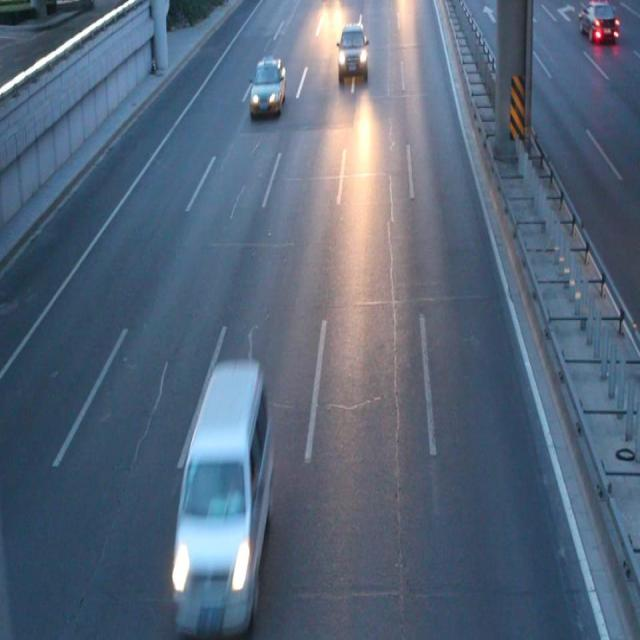car: (251, 59, 286, 113), (577, 1, 617, 42), (338, 26, 366, 76)
truck: (173, 363, 272, 602)
